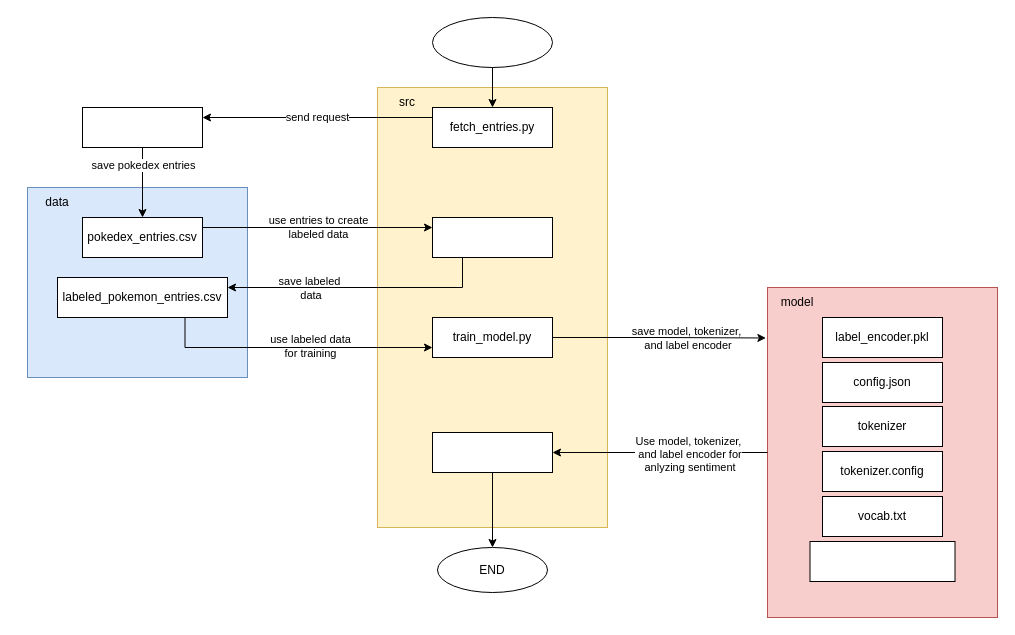
Some shapes in this 1015 by 635 pixel diagram are drawn without their labels. Each missing label, with the box of its shape:
analyze_sentiment.py: (432, 432, 552, 472)
pokeapi.co: (82, 106, 202, 148)
semi_label.py: (432, 216, 552, 258)
special_tokens_map.json: (809, 540, 955, 582)
START: (432, 16, 552, 68)
